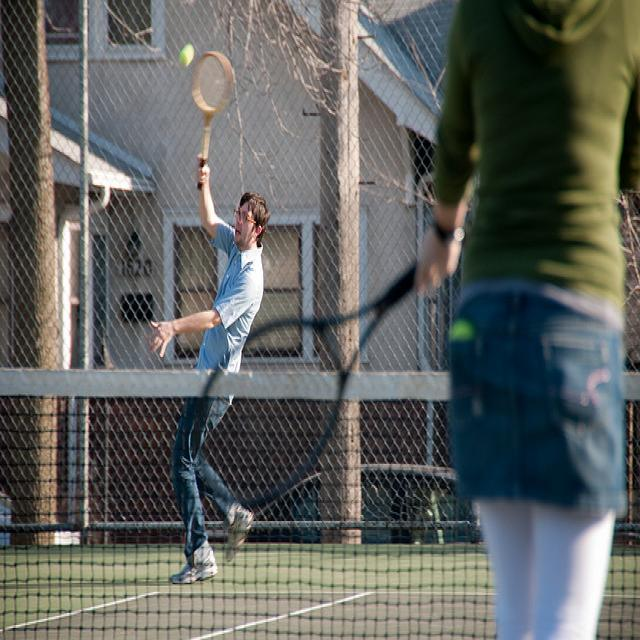Vehicle: (180, 465, 487, 550)
